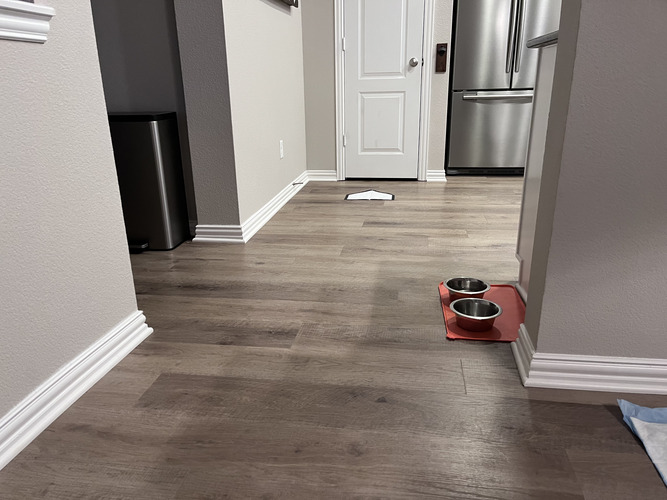homeplate: (344, 190, 394, 200)
